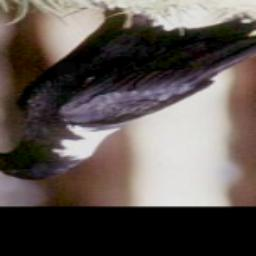Crow: (0, 3, 256, 187)
